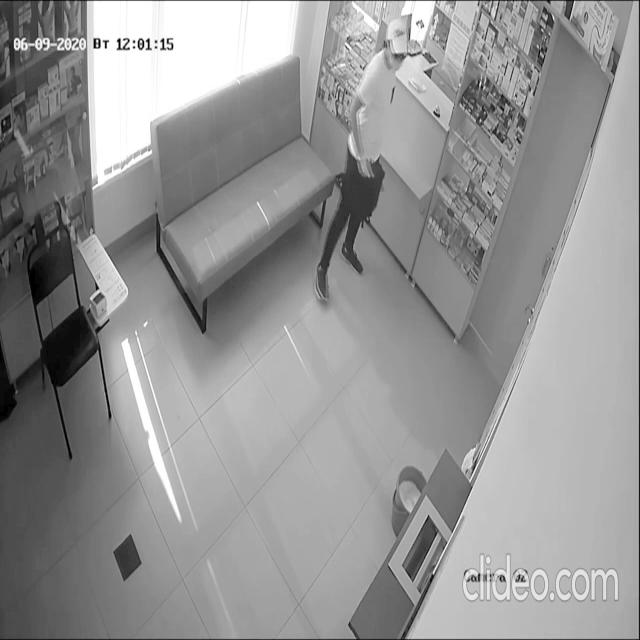gun: (364, 154, 385, 197)
person with a gun: (314, 20, 408, 306)
